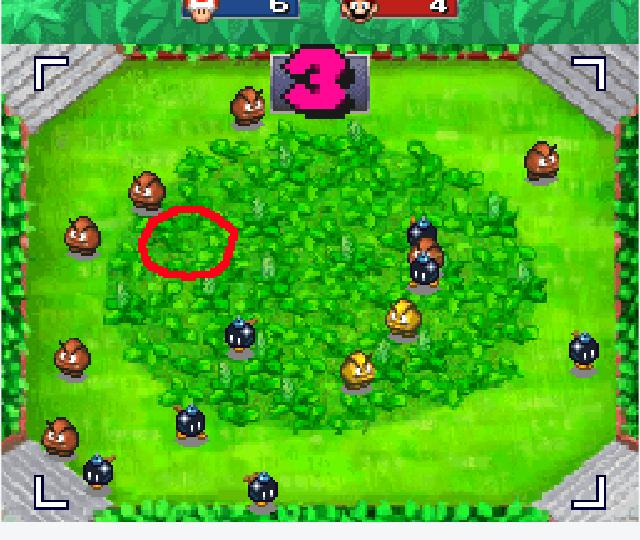bomb: (165, 399, 214, 450), (562, 328, 607, 379), (218, 315, 264, 363), (75, 451, 123, 492), (238, 469, 282, 512), (405, 252, 449, 294), (401, 211, 443, 245)
goomba: (49, 332, 103, 388), (121, 164, 172, 218), (57, 214, 107, 265), (35, 412, 84, 463), (520, 135, 566, 188), (225, 82, 269, 134), (379, 296, 426, 341), (335, 348, 377, 394), (405, 235, 447, 268)
